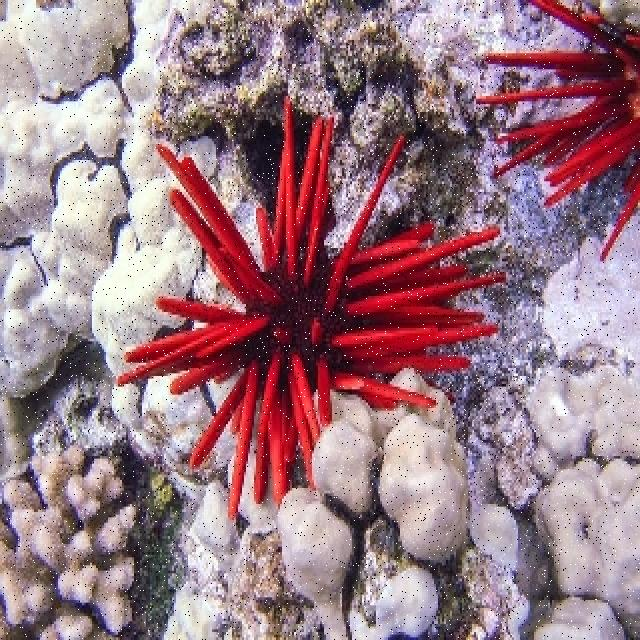reefs: (117, 98, 509, 521), (0, 0, 278, 567), (277, 373, 520, 637), (525, 365, 638, 637), (0, 442, 135, 637)
